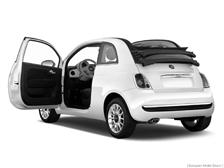car: (11, 34, 217, 140)
